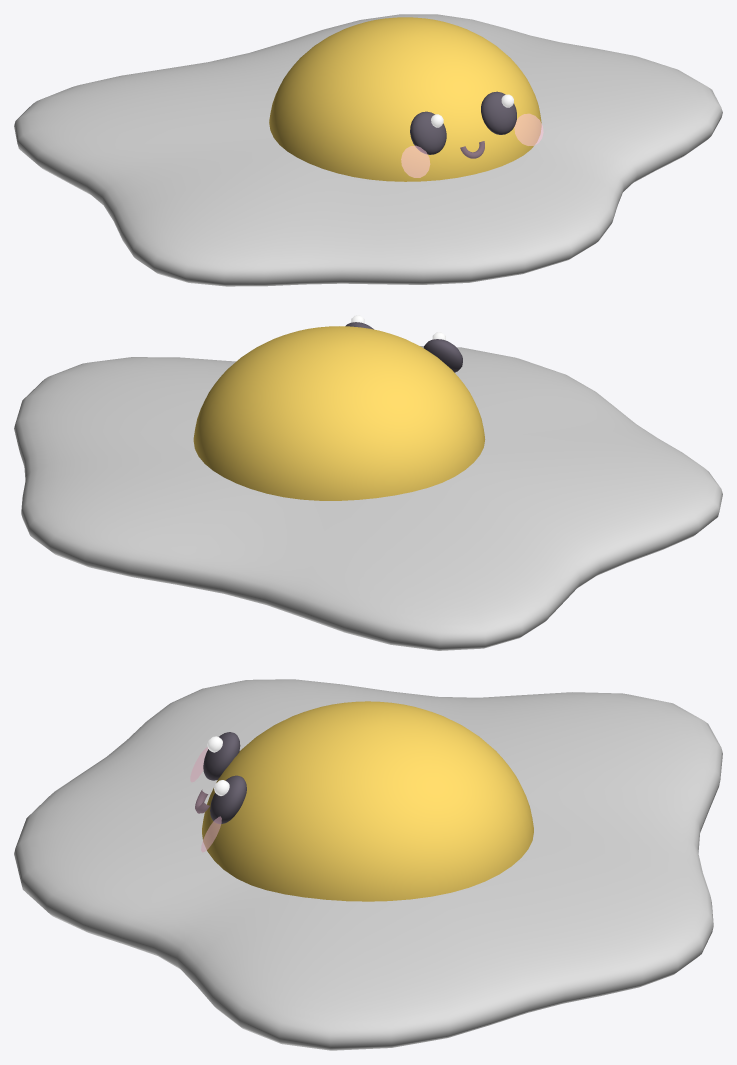
Rendered from squishy_egg.glb.
The picture shows the model from 3 angles, top to bottom: view 1: azimuth 30°, elevation 25°; view 2: azimuth 150°, elevation 25°; view 3: azimuth 270°, elevation 25°; orthographic projection. The views are drawn at different scales.
Parts seen in each view (by area): view 1: Body, Part_0, Part_1, Part_4, Part_6, Part_3; view 2: Body, Part_0, Part_1; view 3: Body, Part_0, Part_4, Part_1.
Part boxes in pixels (x1=…): Body: x1=14, y1=14, x2=722, y2=286; Part_0: x1=269, y1=17, x2=541, y2=181; Part_1: x1=410, y1=111, x2=446, y2=154; Part_4: x1=481, y1=91, x2=516, y2=134; Part_6: x1=514, y1=113, x2=543, y2=145; Part_3: x1=401, y1=145, x2=430, y2=177; Body: x1=14, y1=346, x2=722, y2=650; Part_0: x1=193, y1=326, x2=485, y2=500; Part_1: x1=423, y1=339, x2=462, y2=372; Body: x1=14, y1=679, x2=722, y2=1050; Part_0: x1=202, y1=701, x2=533, y2=901; Part_4: x1=210, y1=775, x2=246, y2=824; Part_1: x1=203, y1=732, x2=240, y2=780.
Size of the model in its own units: 2.82 by 0.616 by 2.38.
